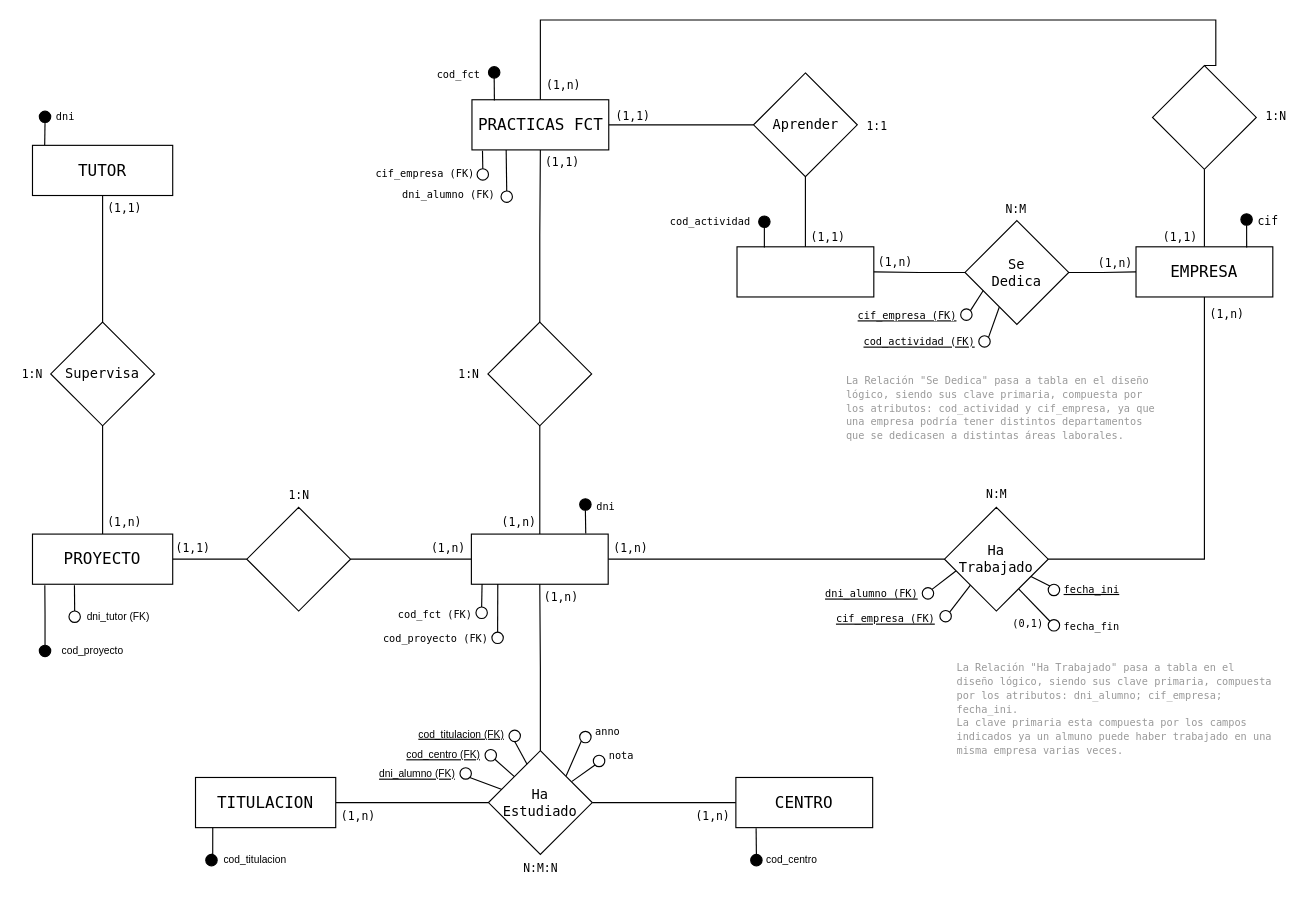
The diagram is 1314 pixels wide and 912 high, and some of its shapes have lost their labels. The box of each missing label's shape, as (x1, y1, x2, y2) in pixels:
ACTIVIDAD LABORAL: (736, 246, 874, 297)
ALUMNO: (470, 533, 608, 584)
Desarrolla: (246, 506, 351, 611)
Efectuar: (1151, 64, 1256, 169)
Realiza: (487, 321, 592, 426)
